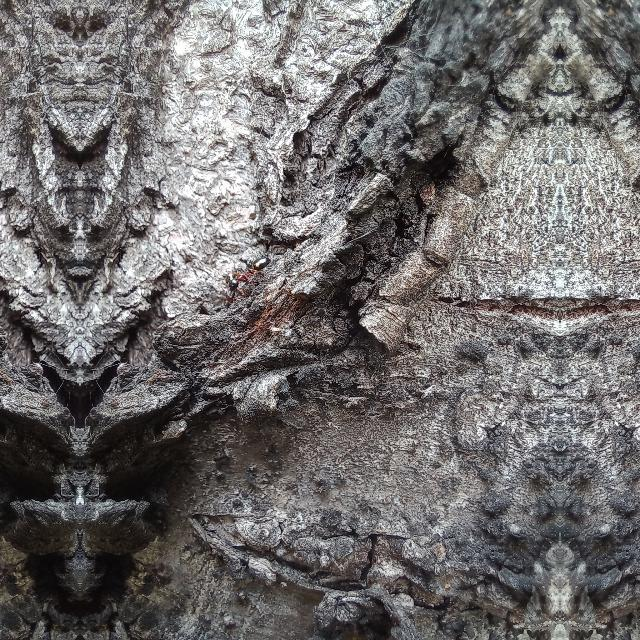Dolichoderus: (220, 248, 272, 298)
